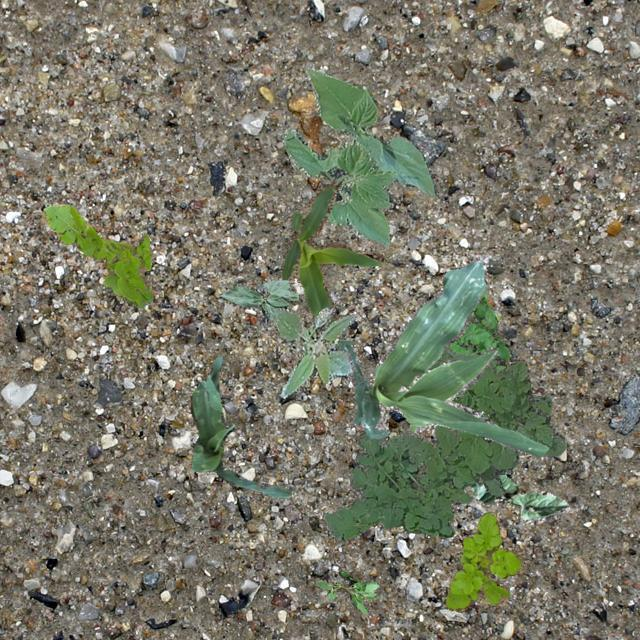crop: (338, 252, 548, 456), (283, 66, 437, 244), (280, 174, 386, 348), (190, 356, 290, 498), (470, 472, 570, 524), (218, 278, 298, 318)
weed: (322, 346, 566, 540), (44, 204, 152, 306), (446, 512, 524, 610), (272, 306, 354, 396), (448, 290, 512, 370), (314, 568, 378, 614)
